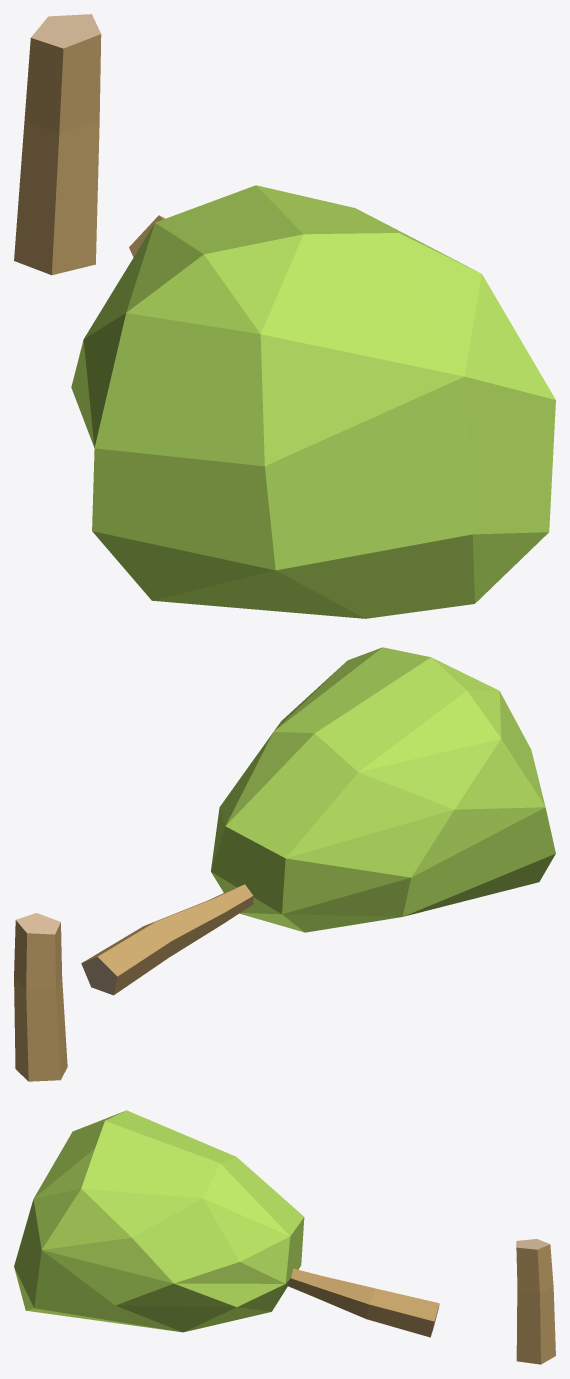
Rendered from Simple_Tree_crk_m_01.fbx.
3 renders of one model, top to bottom at view 1: azimuth 30°, elevation 25°; view 2: azimuth 150°, elevation 25°; view 3: azimuth 270°, elevation 25°, orthographic. The views are drawn at different scales.
Visible parts, largest first — view 1: Simple_Tree_crk_m_01; view 2: Simple_Tree_crk_m_01; view 3: Simple_Tree_crk_m_01.
Boxes of the visible parts, x1=… form: Simple_Tree_crk_m_01: x1=14, y1=14, x2=555, y2=618; Simple_Tree_crk_m_01: x1=14, y1=647, x2=555, y2=1081; Simple_Tree_crk_m_01: x1=14, y1=1110, x2=555, y2=1364.
Size of the model in its own units: 354 by 291 by 750.
